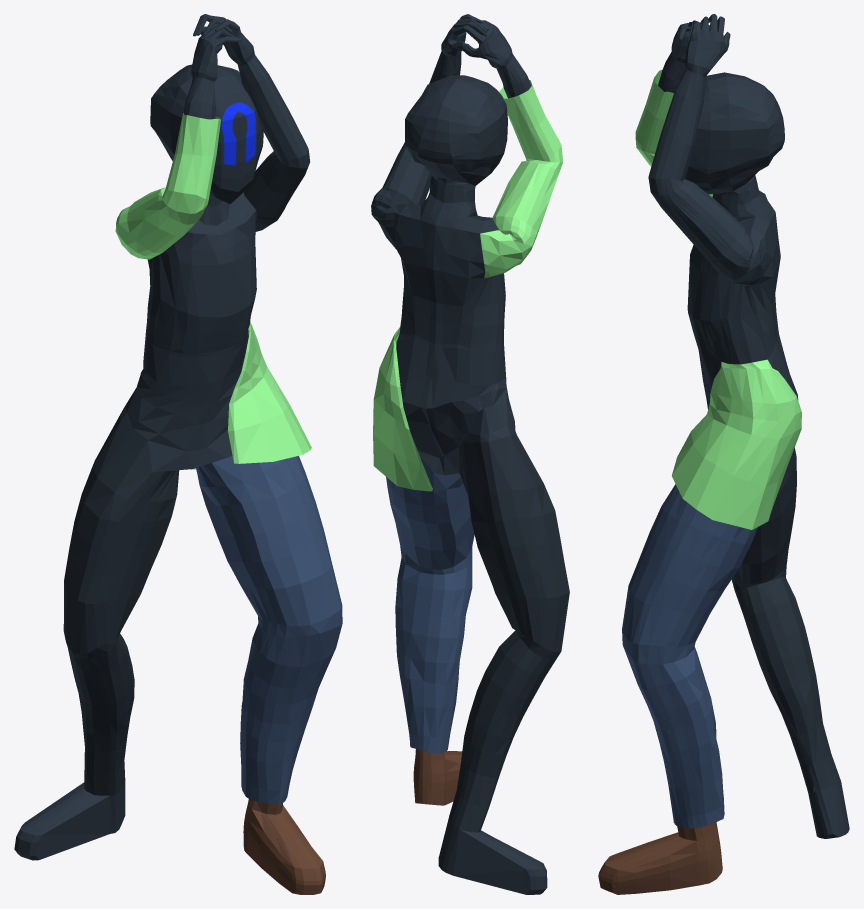
Rendered from Mar_Attack_000016.obj.
3 renders of one model, left to right at view 1: azimuth 30°, elevation 25°; view 2: azimuth 150°, elevation 25°; view 3: azimuth 270°, elevation 25°, orthographic. The views are drawn at different scales.
Parts seen in each view (by area): view 1: Cube.000_Cube.001; view 2: Cube.000_Cube.001; view 3: Cube.000_Cube.001.
Part boxes in pixels (box(x1,y1,x2,y2)): Cube.000_Cube.001: box(14, 14, 342, 894); Cube.000_Cube.001: box(371, 14, 569, 894); Cube.000_Cube.001: box(598, 14, 849, 894).
Bounding box in the file's own units: 1.21 × 4.11 × 1.1.
